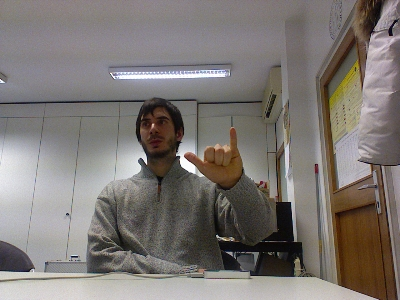六六六: (182, 126, 243, 186)
